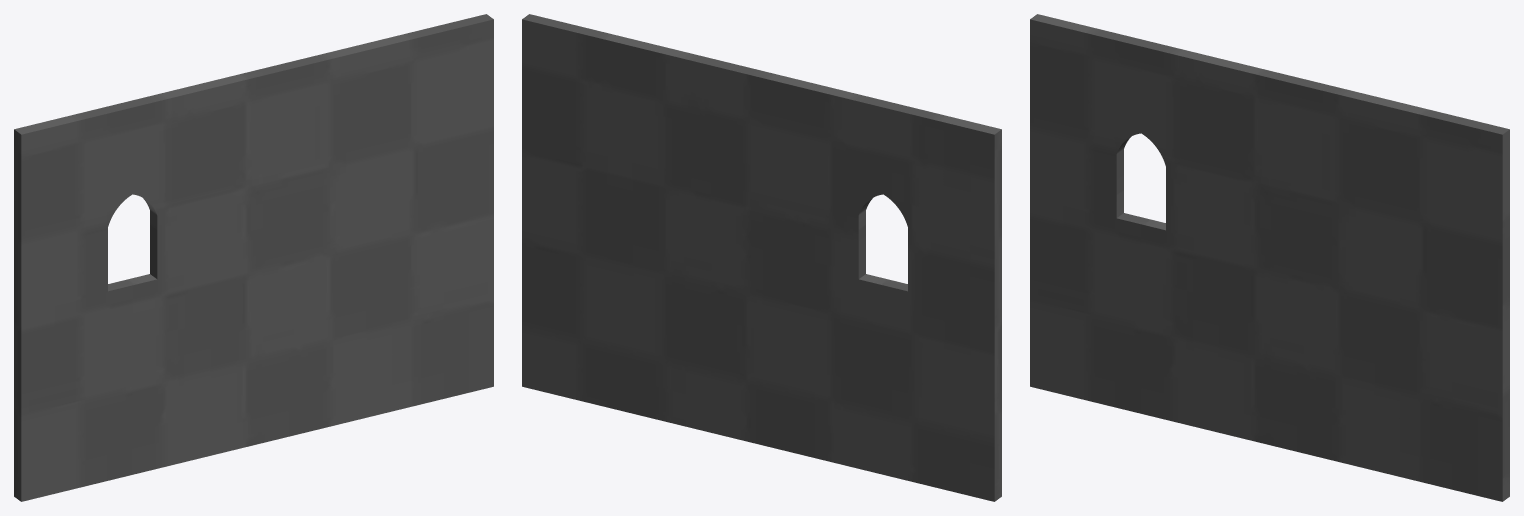
Rendered from SM_QiangTi04_e40662.glb.
The picture shows the model from 3 angles, left to right: view 1: azimuth 30°, elevation 25°; view 2: azimuth 150°, elevation 25°; view 3: azimuth 330°, elevation 25°; orthographic projection.
Parts seen in each view (by area): view 1: SM_QiangTi04; view 2: SM_QiangTi04; view 3: SM_QiangTi04.
Boxes of the visible parts, bbox=[...] form: SM_QiangTi04: bbox=[14, 14, 493, 501]; SM_QiangTi04: bbox=[522, 14, 1001, 501]; SM_QiangTi04: bbox=[1030, 14, 1509, 501].
Size of the model in its own units: 7.4 by 5.5 by 0.1998.
Materials: 1 (1 with a texture image).
